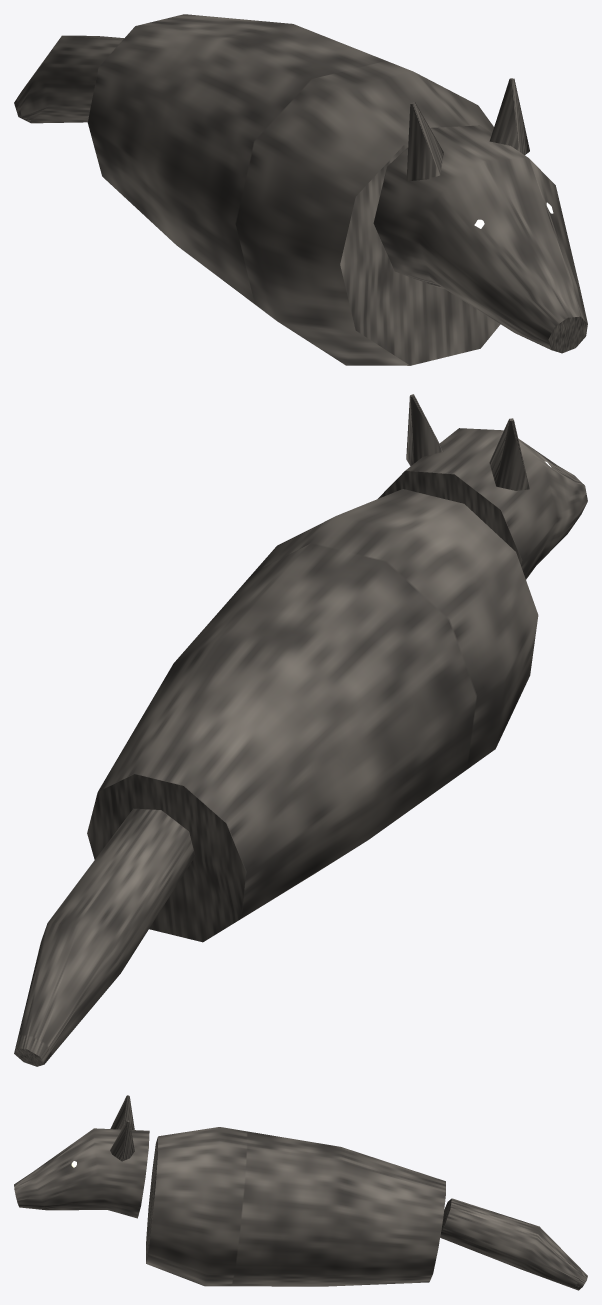
File: wolf_body.glb
The picture shows the model from 3 angles, top to bottom: view 1: azimuth 30°, elevation 25°; view 2: azimuth 150°, elevation 25°; view 3: azimuth 270°, elevation 25°; orthographic projection. The views are drawn at different scales.
Visible parts, largest first — view 1: wolf_body; view 2: wolf_body; view 3: wolf_body.
Part boxes in pixels (left/top/right/bottom): wolf_body: left=14, top=14, right=587, bottom=365; wolf_body: left=14, top=394, right=587, bottom=1066; wolf_body: left=14, top=1095, right=587, bottom=1290.
Bounding box in the file's own units: 0.5 × 0.6645 × 1.91.
5 materials, 4 textured.
